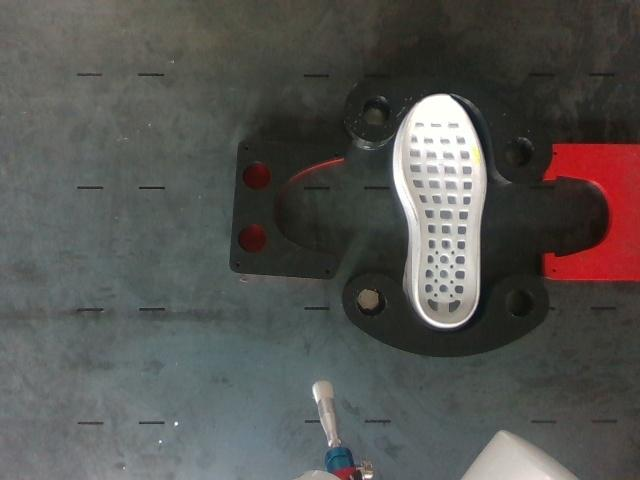shoes: (402, 94, 484, 325)
